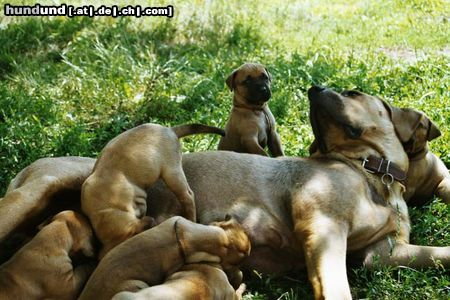tosa_inu: (0, 83, 450, 300), (80, 121, 224, 263), (76, 215, 251, 300), (0, 209, 94, 300), (216, 62, 283, 158), (111, 264, 247, 300), (402, 112, 450, 208)
